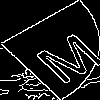M: (24, 24, 100, 86)
